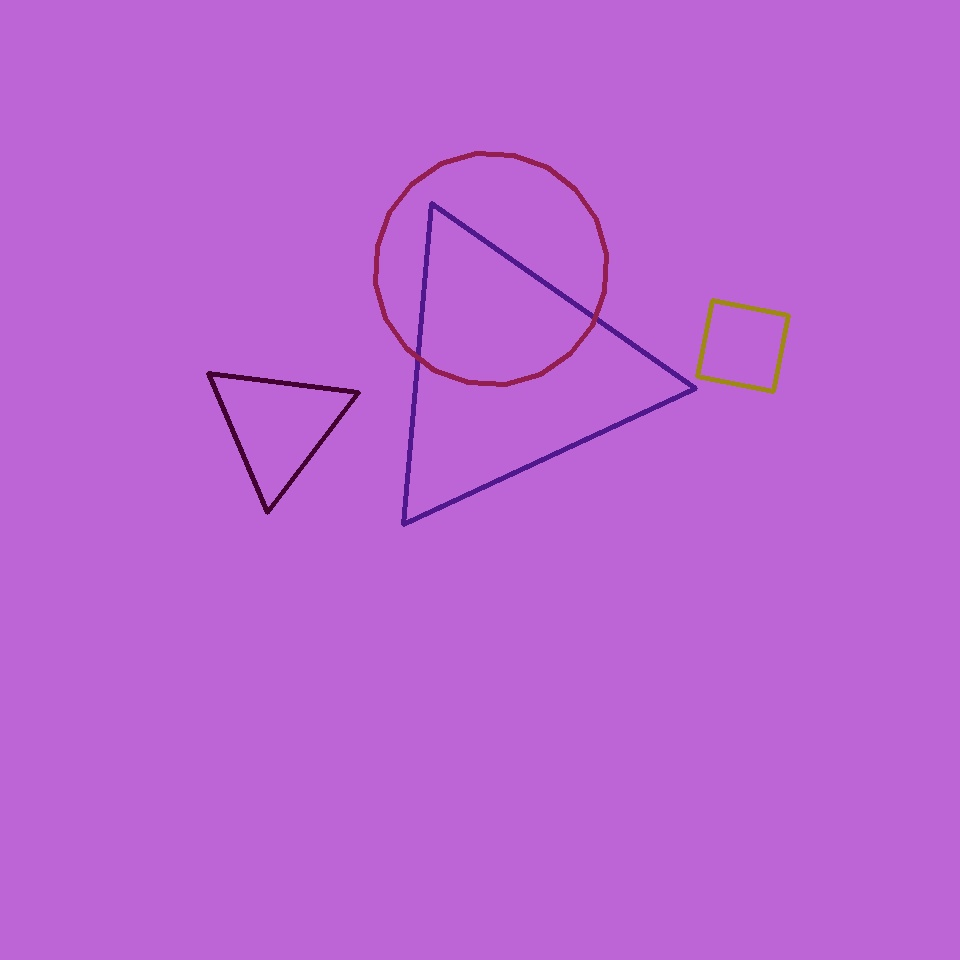circle: (364, 212, 656, 532), (203, 356, 353, 496)
square: (698, 300, 788, 392)
triangle: (376, 154, 606, 384)
